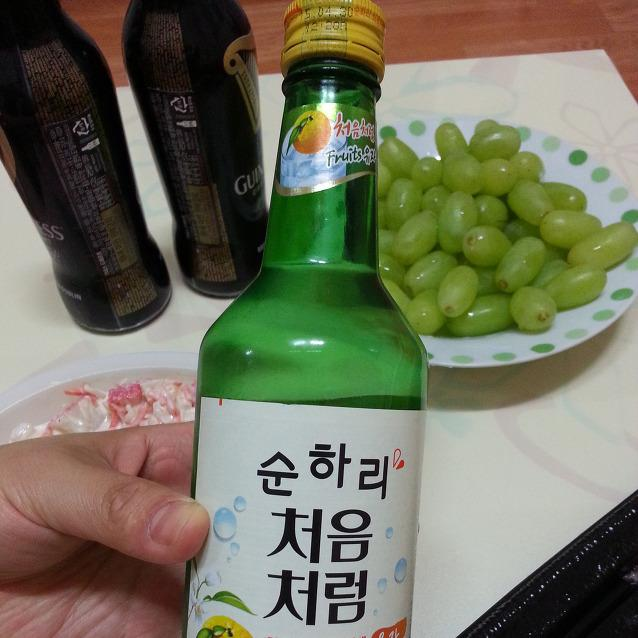soju: (188, 1, 420, 638)
